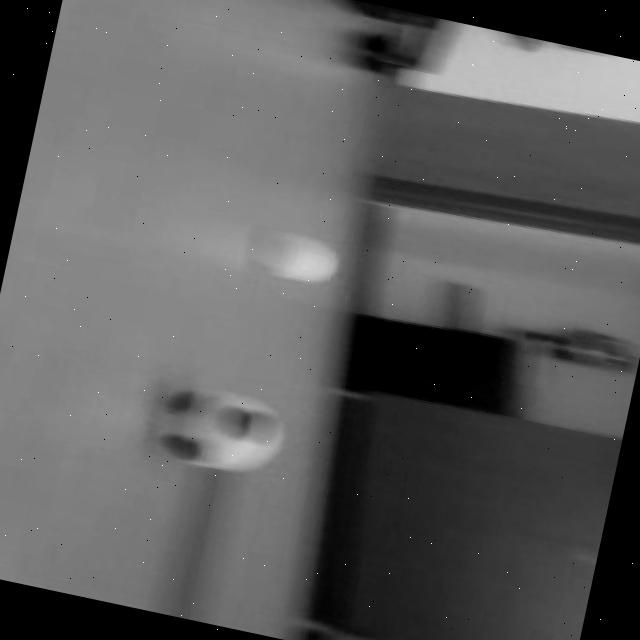ping-pong-ball: (144, 369, 294, 492), (246, 222, 348, 296)
